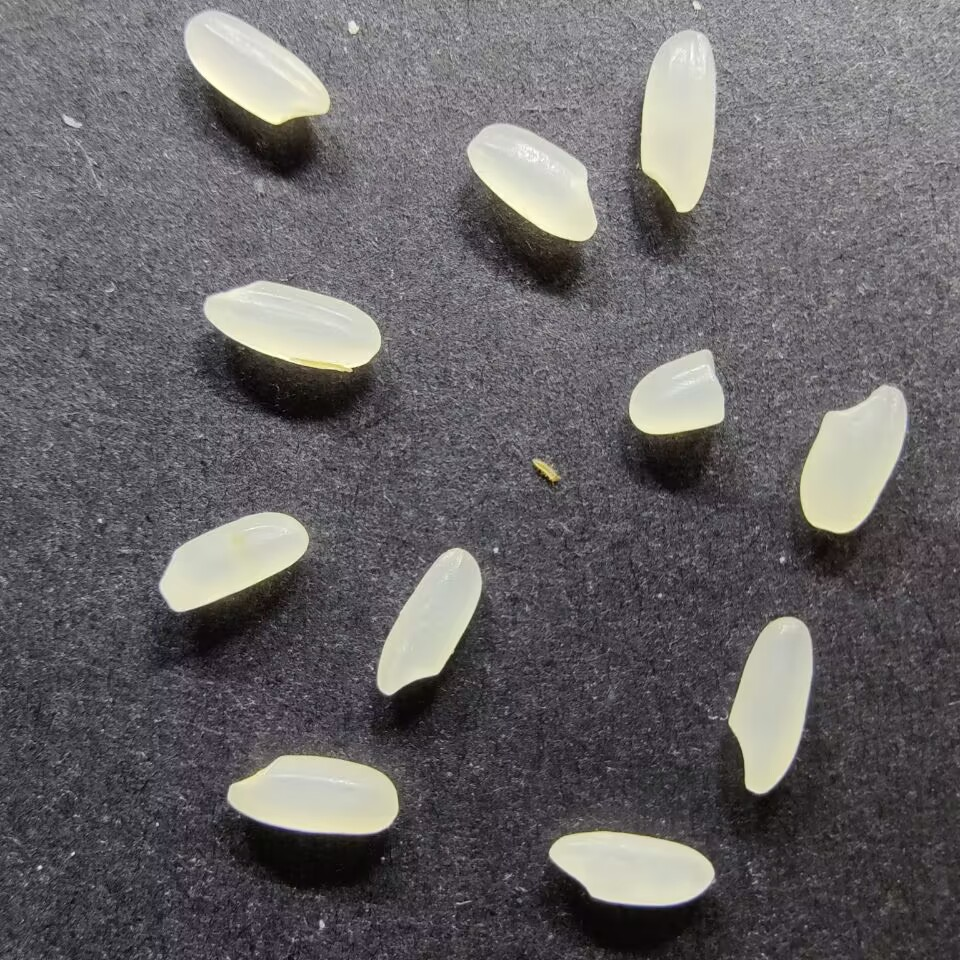broken: (625, 347, 727, 437)
others: (528, 454, 564, 487)
rice: (181, 8, 336, 126), (200, 277, 385, 374), (375, 544, 486, 697), (797, 382, 908, 535), (463, 120, 599, 243), (724, 615, 814, 796), (158, 509, 311, 614), (224, 752, 401, 837), (637, 26, 717, 213), (545, 829, 718, 908)
